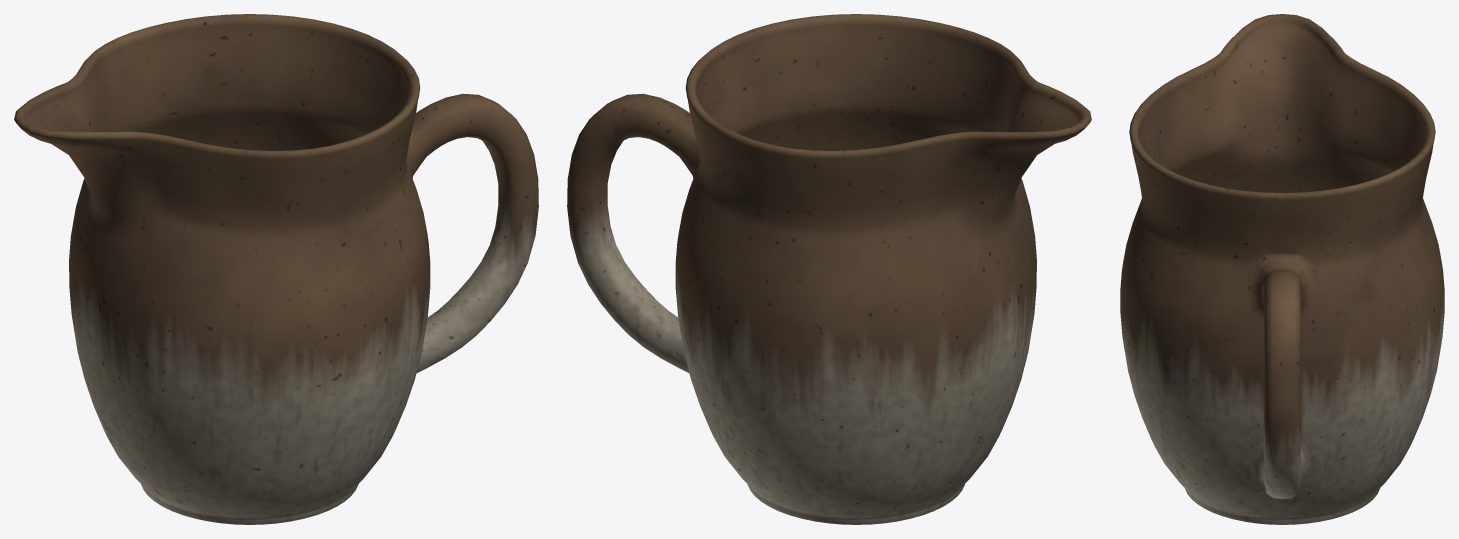
File: jug.glb
3 views of the same model, side by side, from view 1: azimuth 30°, elevation 25°; view 2: azimuth 150°, elevation 25°; view 3: azimuth 270°, elevation 25° (orthographic). The views are drawn at different scales.
Parts seen in each view (by area): view 1: Jug; view 2: Jug; view 3: Jug.
Boxes of the visible parts, left/top/right/bottom form: Jug: left=14, top=14, right=538, bottom=524; Jug: left=567, top=14, right=1091, bottom=524; Jug: left=1120, top=14, right=1444, bottom=524.
Bounding box in the file's own units: 0.3127 × 0.24 × 0.1903.
Materials: 1 (1 with a texture image).
